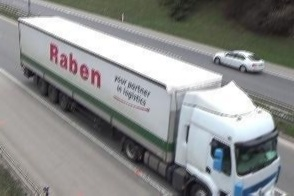truck: (18, 19, 280, 196)
